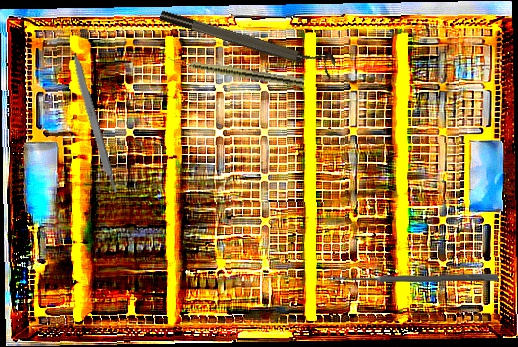Fixation Ring: (158, 0, 338, 79)
Handpiece: (166, 55, 306, 88)
Scalpel Handle: (68, 51, 119, 195)
Surgical Spoon: (326, 272, 499, 284)
